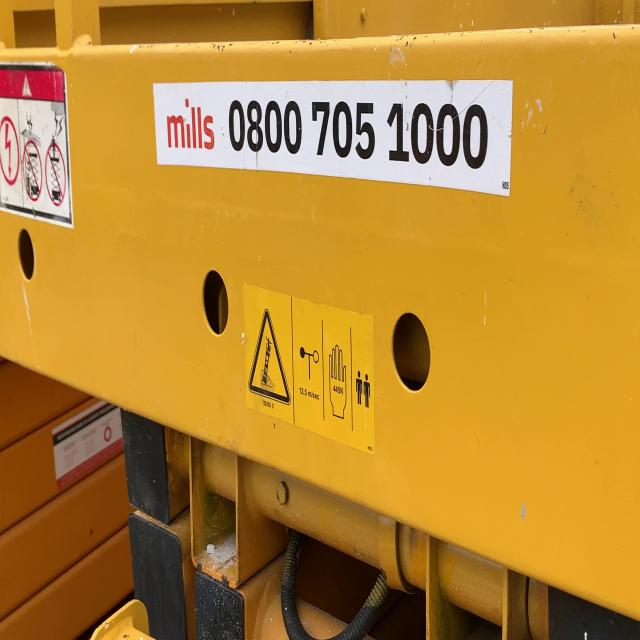Adesivo Longo: (151, 74, 515, 201)
